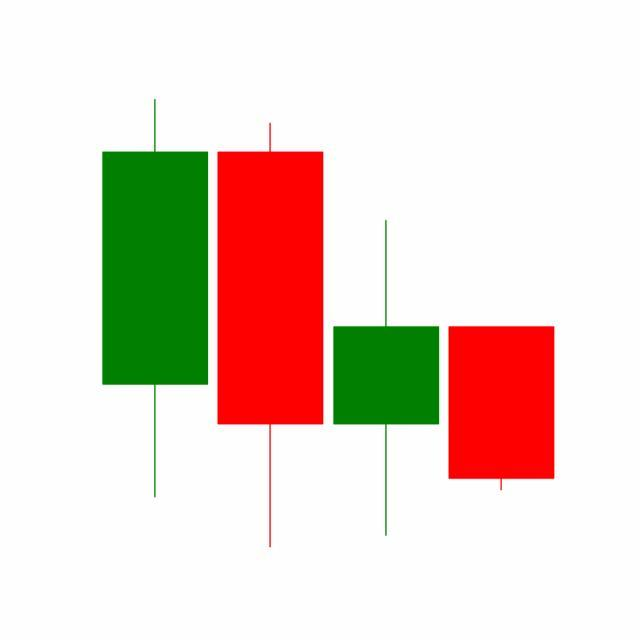Marubozu: (444, 326, 560, 493)
